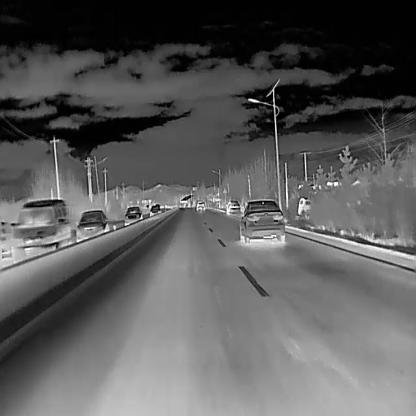car: (9, 198, 71, 264), (240, 196, 286, 244), (75, 209, 109, 242), (296, 196, 312, 218), (124, 206, 141, 225), (226, 199, 240, 215), (149, 203, 161, 217), (195, 200, 206, 211)
